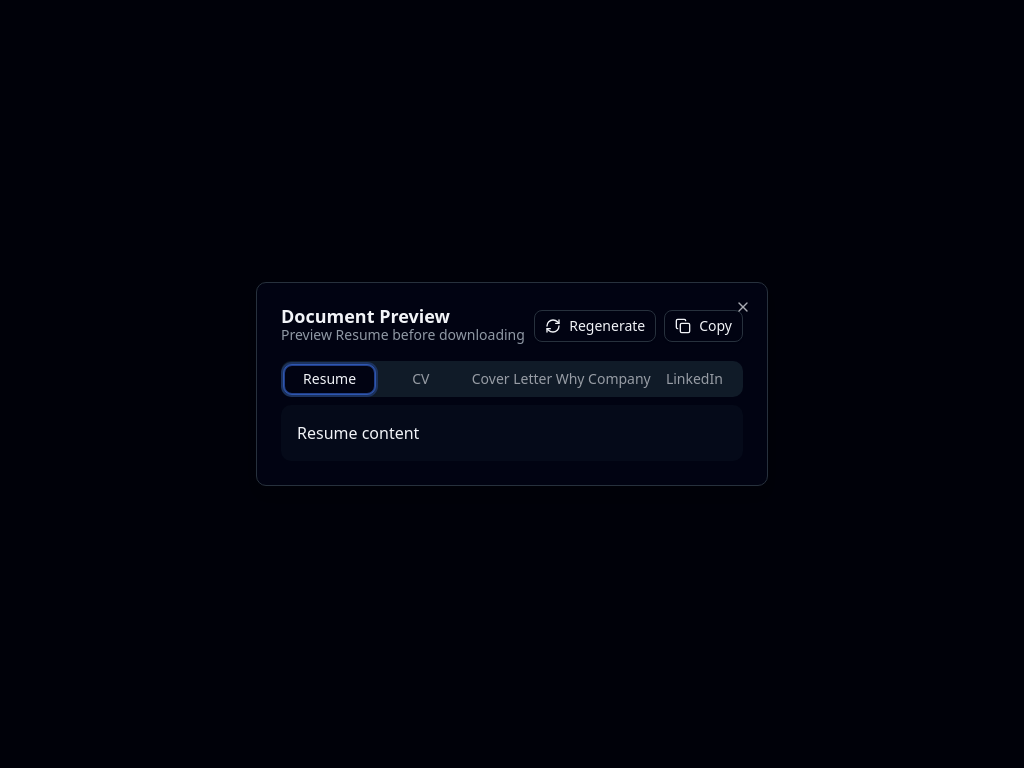
Test case: DocumentPreview Component › updates description when tab changes
Check: the text "Preview Resume before downloading" is shown, box [281, 325, 525, 345]
Click the tab "CV": click(421, 379) [375, 364, 466, 394]
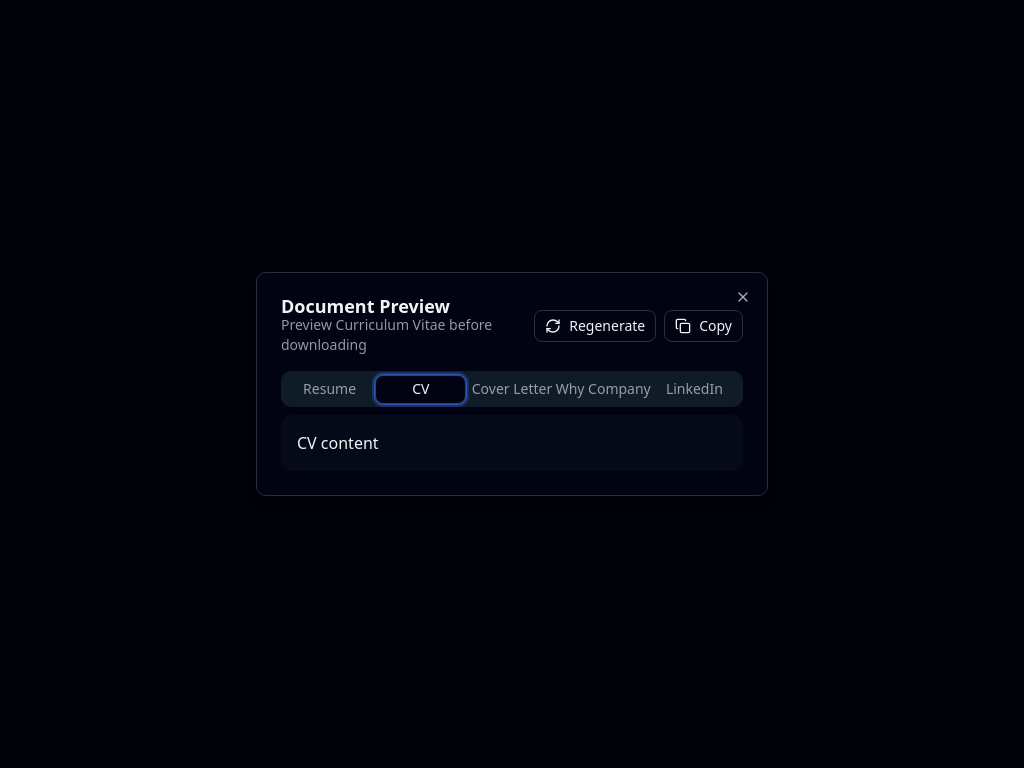
Check: the text "Preview Curriculum Vitae before downloading" is shown, box [281, 315, 492, 354]
